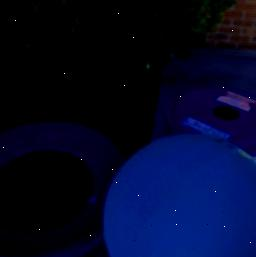algae: (105, 131, 256, 257)
